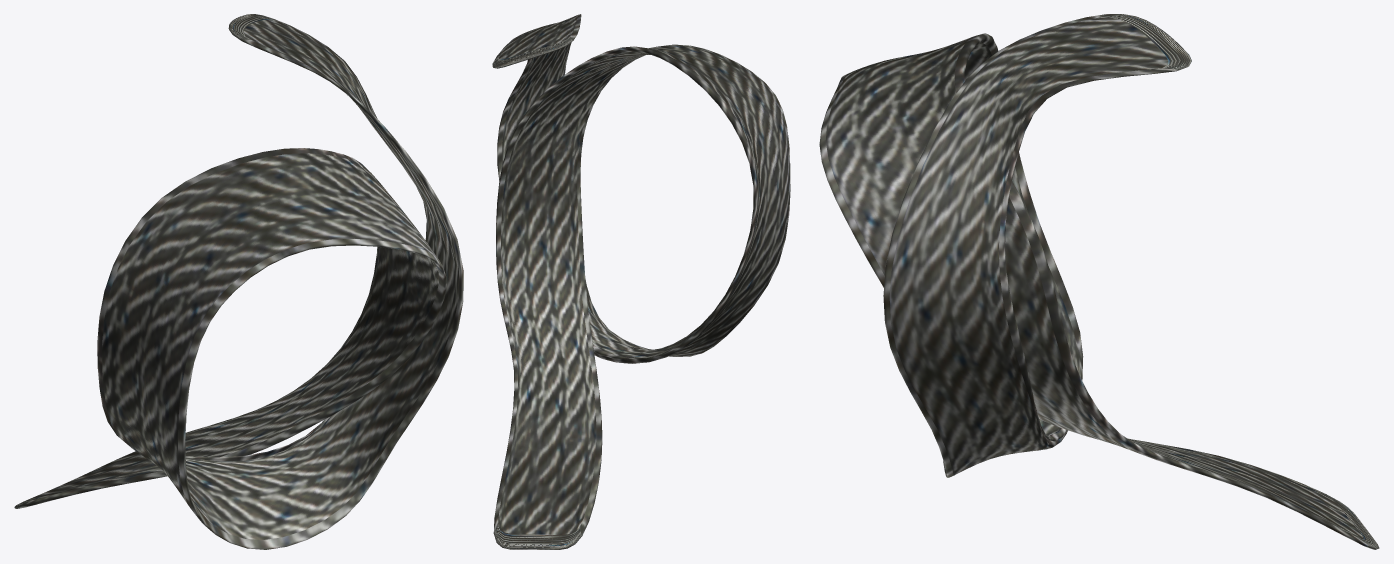
The model's file is 10152_WomensScarf_v01_L3.obj.
The picture shows the model from 3 angles, left to right: view 1: azimuth 30°, elevation 25°; view 2: azimuth 150°, elevation 25°; view 3: azimuth 270°, elevation 25°; orthographic projection. The views are drawn at different scales.
Visible parts, largest first — view 1: 10152_WomensScarf_v01; view 2: 10152_WomensScarf_v01; view 3: 10152_WomensScarf_v01.
Boxes of the visible parts, x1,y1,x2,y2 form: 10152_WomensScarf_v01: (14,14,463,549); 10152_WomensScarf_v01: (492,14,790,549); 10152_WomensScarf_v01: (819,14,1379,549).
Bounding box in the file's own units: 9.11 × 14.17 × 12.9.
1 material, 1 textured.
